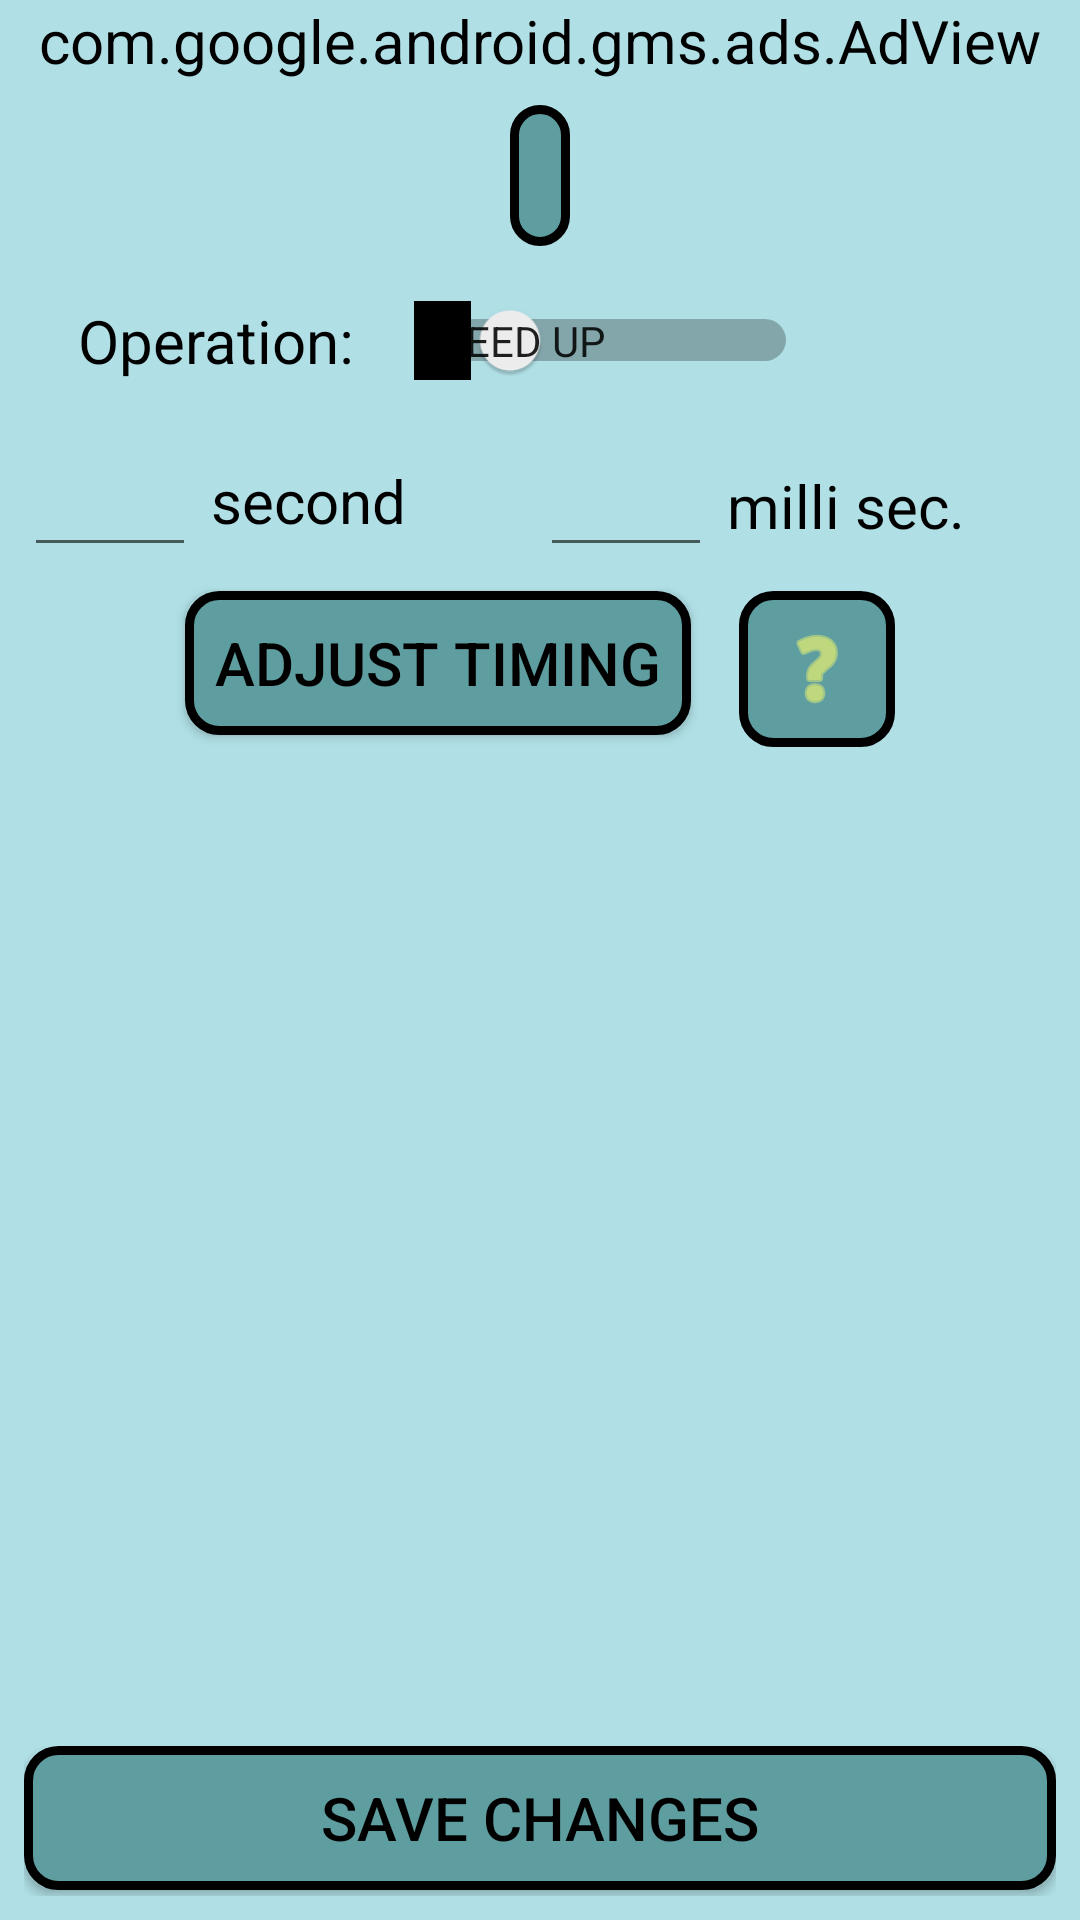

Icons on this 1080w x 1920h Android screen, each with the point to tap as (x=x, y=y):
Information: (x=817, y=669)
